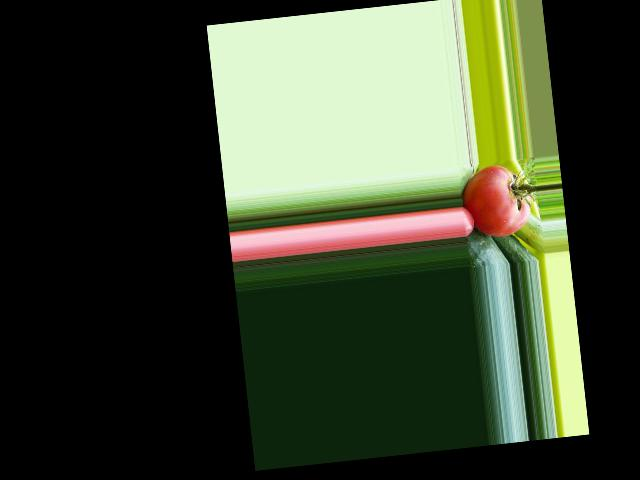tomato: (459, 162, 533, 240)
